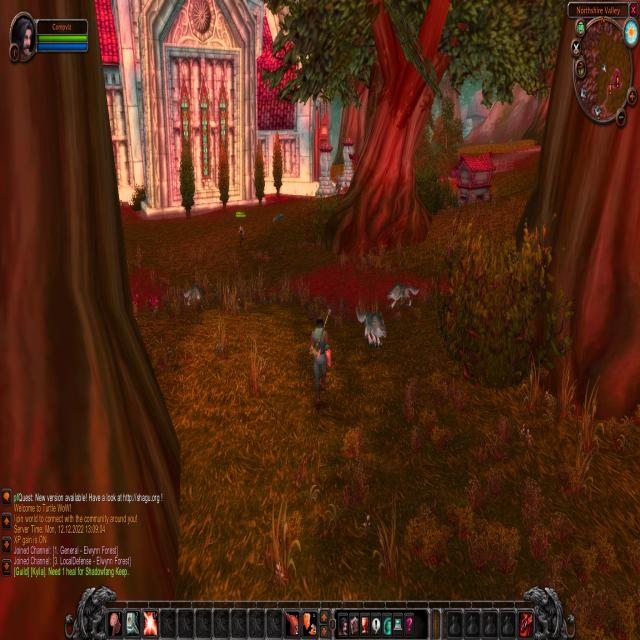wolf: (350, 299, 390, 354), (382, 275, 422, 317), (180, 281, 206, 310), (272, 209, 287, 231)
